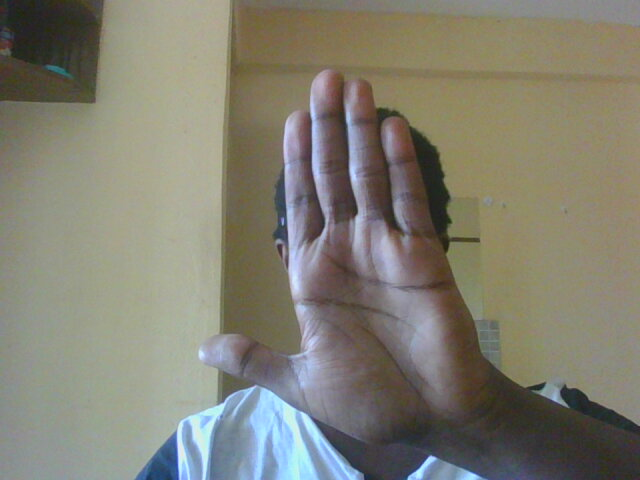Hello: (172, 57, 527, 443)
